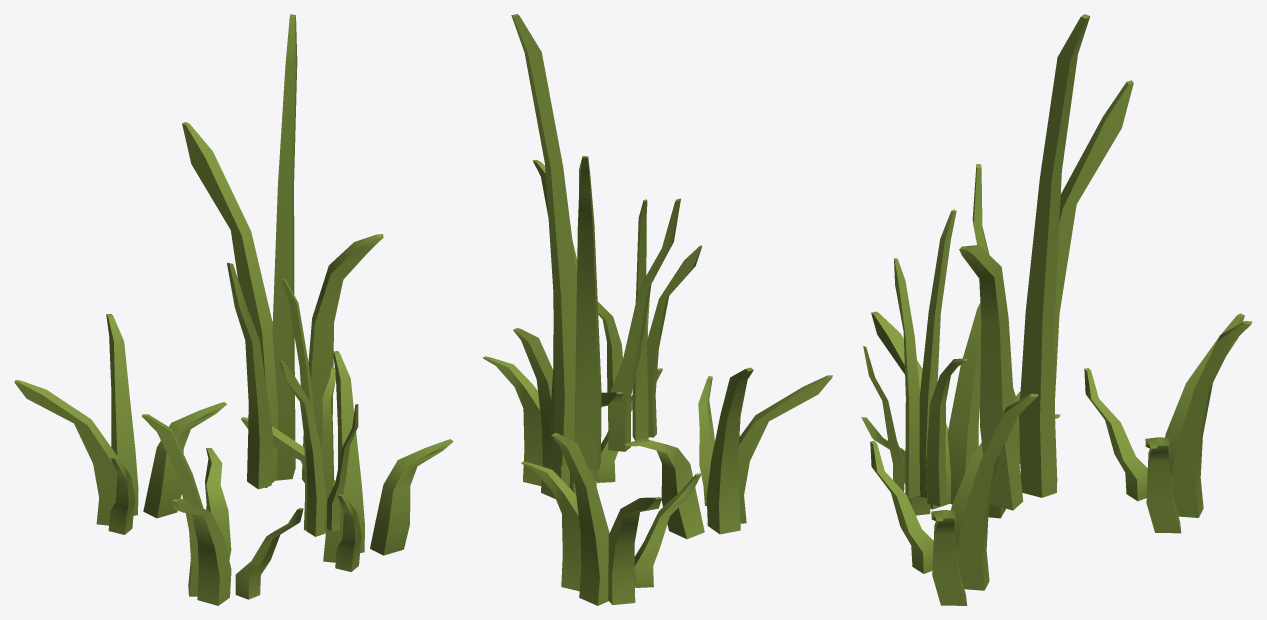
File: Grass1.fbx
The picture shows the model from 3 angles, left to right: view 1: azimuth 30°, elevation 25°; view 2: azimuth 150°, elevation 25°; view 3: azimuth 270°, elevation 25°; orthographic projection. The views are drawn at different scales.
Visible parts, largest first — view 1: GrassLighter1; view 2: GrassLighter1; view 3: GrassLighter1.
Boxes of the visible parts, left/top/right/bottom form: GrassLighter1: left=14, top=14, right=453, bottom=605; GrassLighter1: left=483, top=14, right=832, bottom=605; GrassLighter1: left=861, top=14, right=1252, bottom=605.
Size of the model in its own units: 0.9424 by 1.46 by 0.9158.
